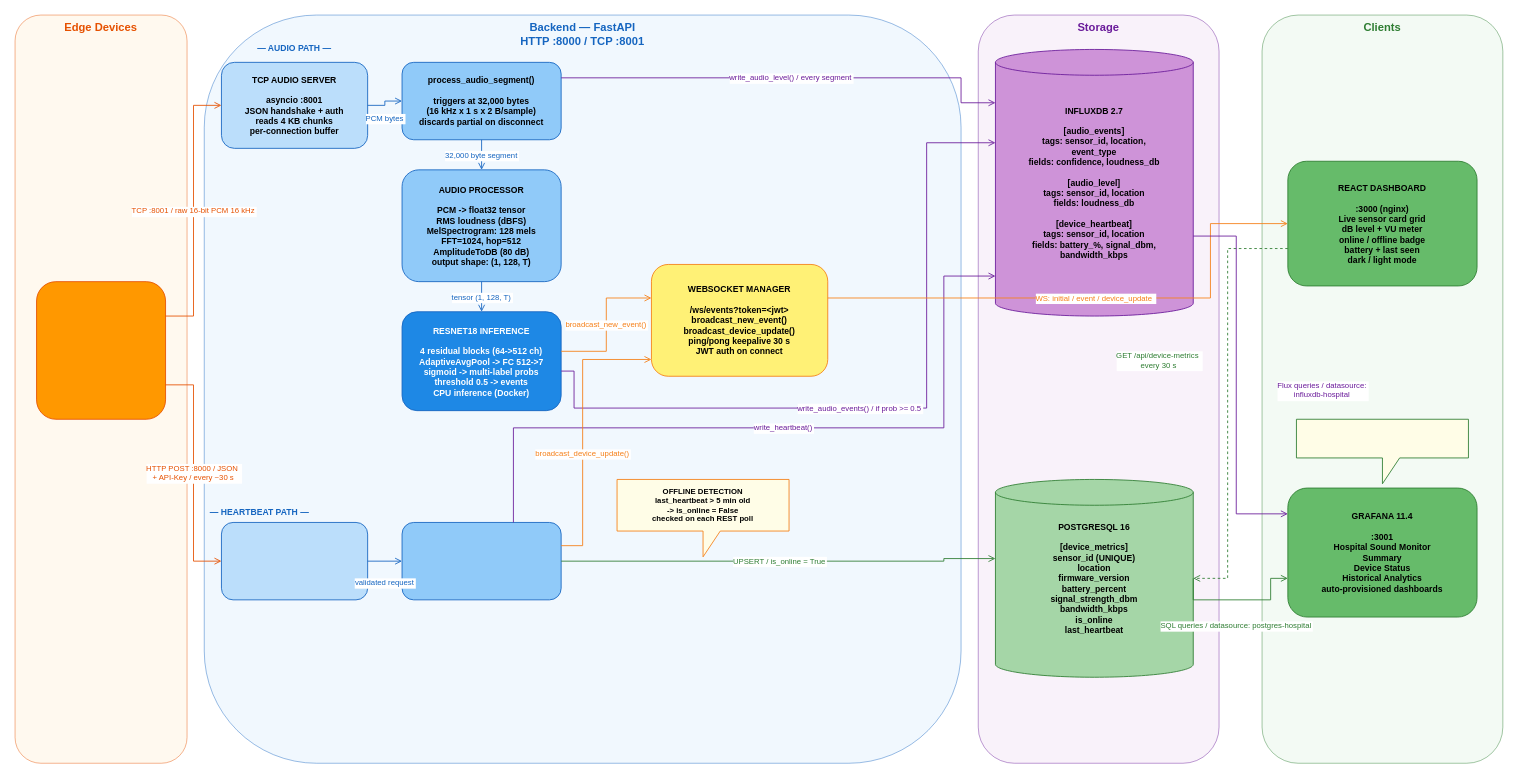
Image size: 1518x778. Some labels were removed from this diagram. The centre of each missing label's shape, as x and y in pixels:
"ESP32 SENSOR INMP441 microphone 16 kHz PCM audio WiFi 802.11 b/g/n 1 – N devices" belongs at point (101, 350).
"HEARTBEAT ENDPOINT POST /api/device-metrics /heartbeat auth: X-API-Key header" belongs at point (294, 561).
"Polls GET /api/device-metrics every 30 s as safety net (primary updates via WS)" belongs at point (1382, 451).
"update_heartbeat() UPSERT device_metrics is_online = True last_heartbeat = now()" belongs at point (481, 561).
